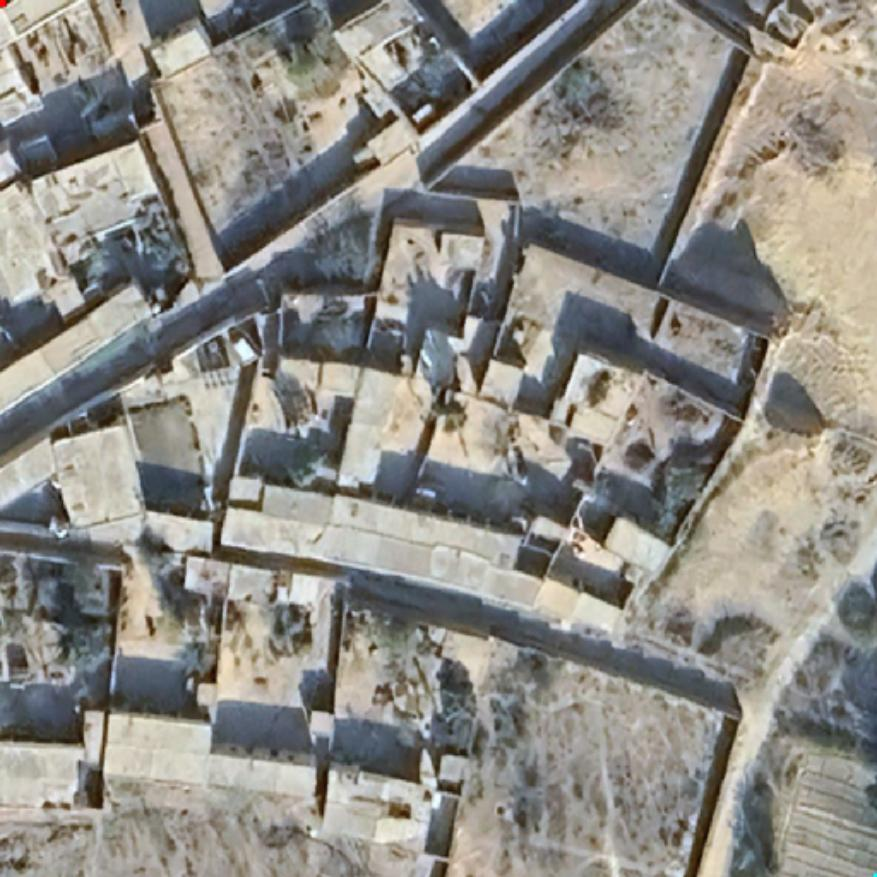Solarpanel: (193, 365, 245, 392)
